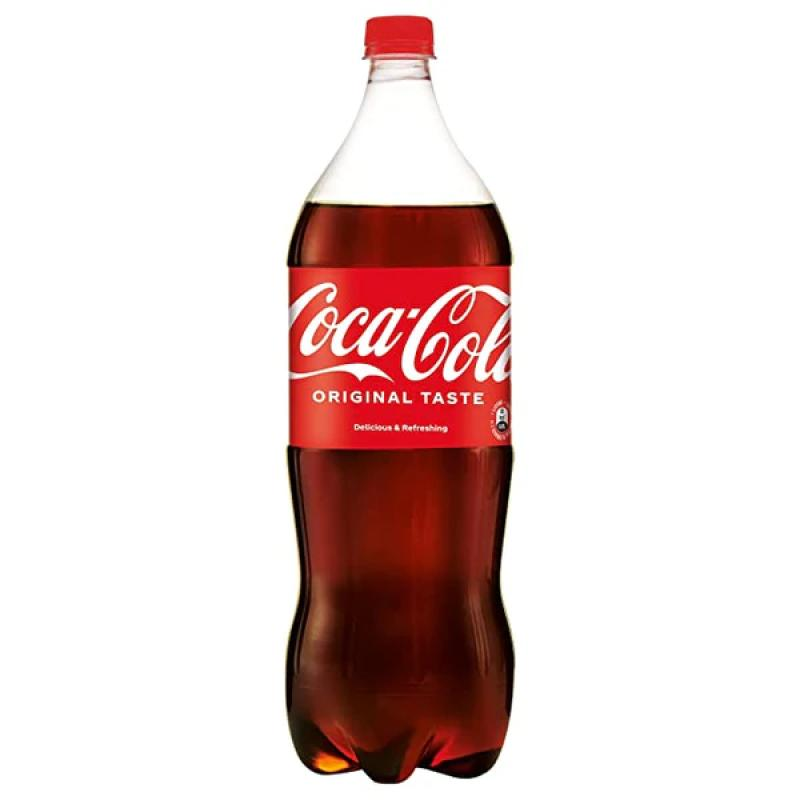botella: (272, 5, 520, 782)
